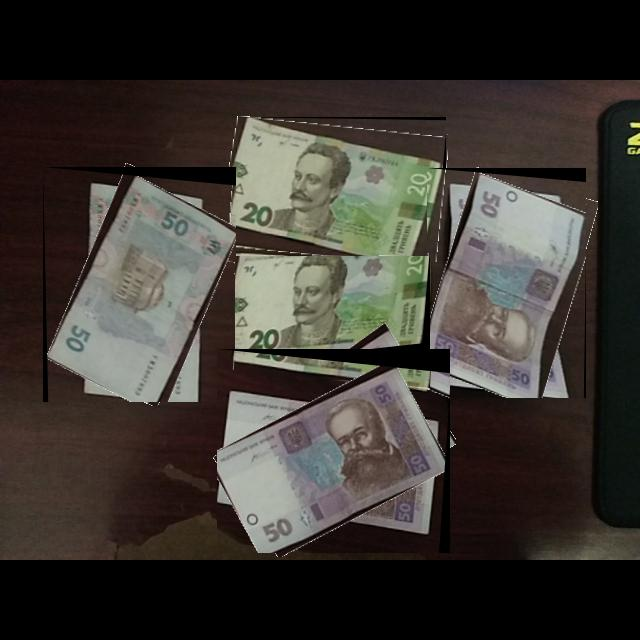20uah: (229, 117, 444, 262), (235, 256, 430, 357)
50uah: (217, 364, 446, 554), (47, 175, 237, 403), (427, 172, 587, 399)
